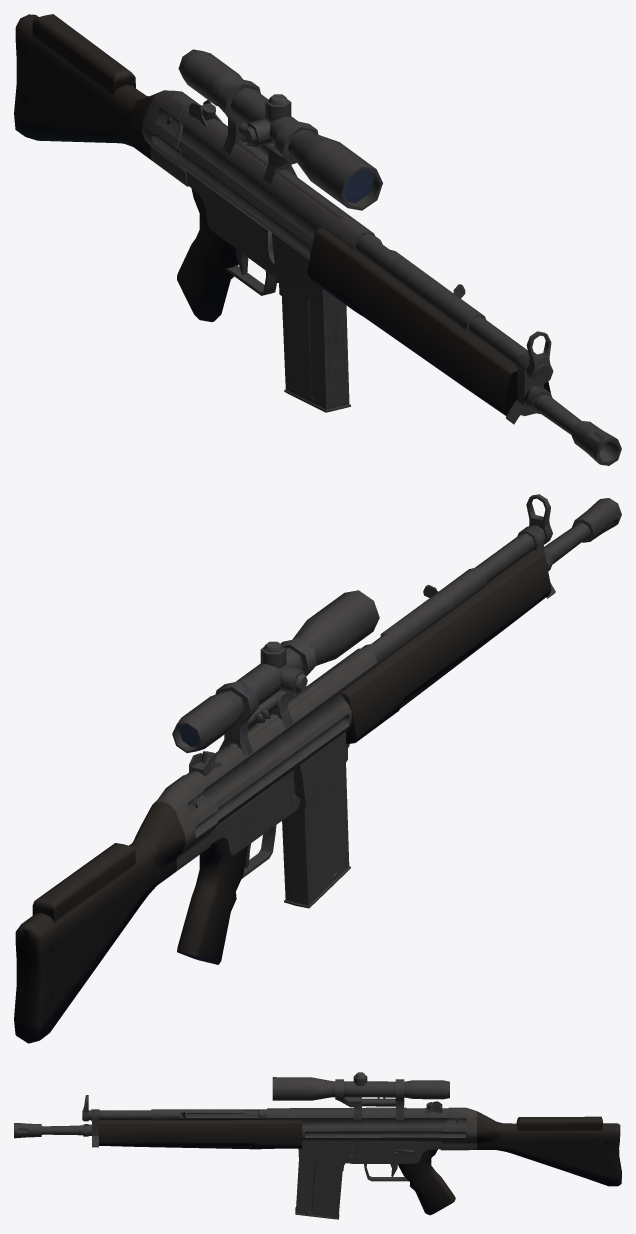
Rendered from sniperrifle_g.fbx.
3 views of the same model, one above another, from view 1: azimuth 30°, elevation 25°; view 2: azimuth 150°, elevation 25°; view 3: azimuth 270°, elevation 25° (orthographic). The views are drawn at different scales.
Parts seen in each view (by area): view 1: sniperrifle_g, sniperrifle_g_scope; view 2: sniperrifle_g, sniperrifle_g_scope; view 3: sniperrifle_g, sniperrifle_g_scope.
Part boxes in pixels (bbox=[...]): sniperrifle_g: bbox=[14, 14, 621, 465]; sniperrifle_g_scope: bbox=[178, 49, 382, 210]; sniperrifle_g: bbox=[14, 494, 621, 1043]; sniperrifle_g_scope: bbox=[172, 590, 379, 765]; sniperrifle_g: bbox=[14, 1095, 621, 1219]; sniperrifle_g_scope: bbox=[272, 1072, 449, 1121].
Bounding box in the file's own units: 5.03 × 24.63 × 94.66.
